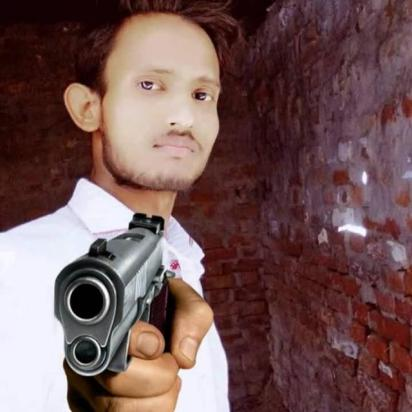Gun: (46, 208, 187, 412)
